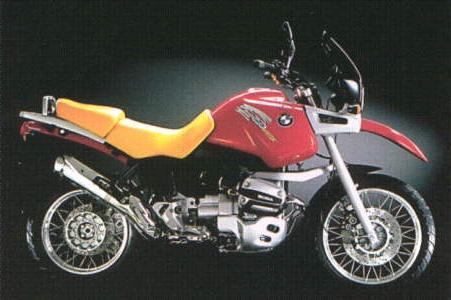motorcycle: (2, 18, 451, 300)
